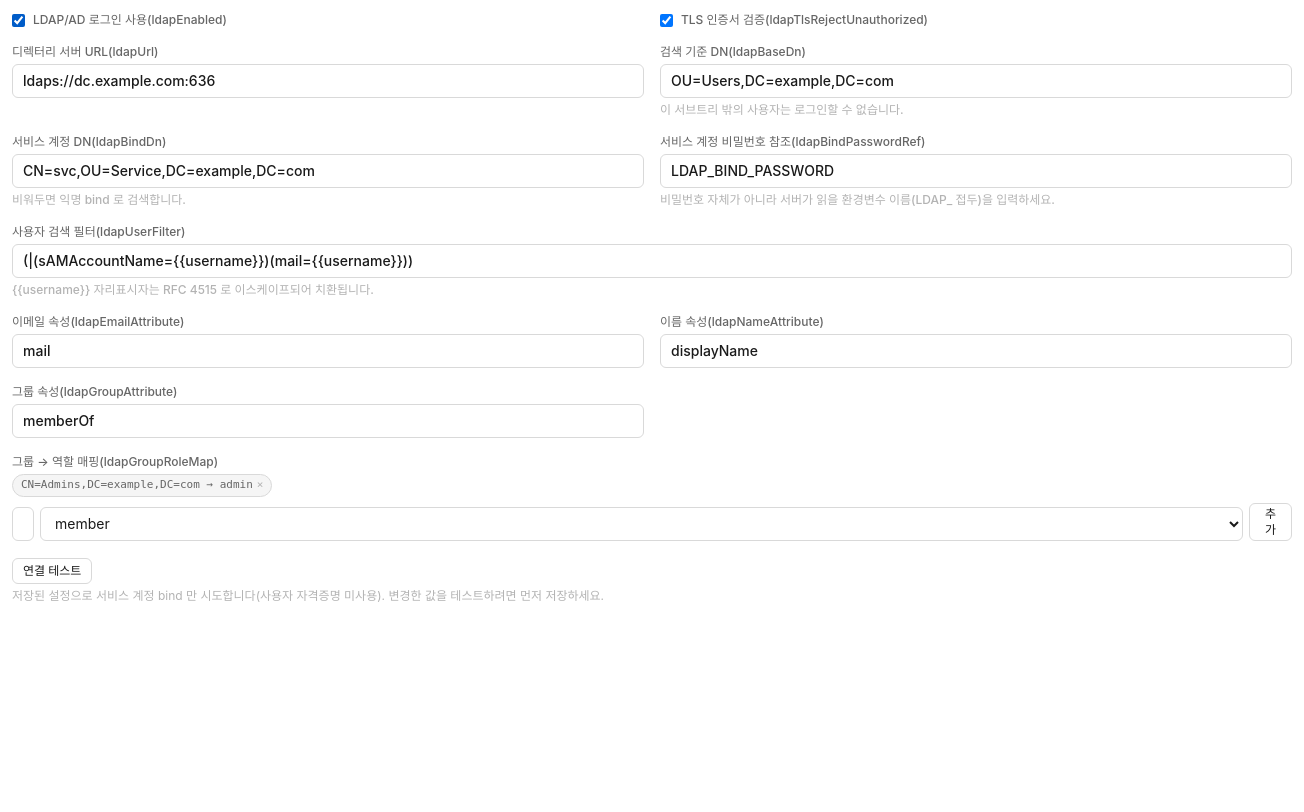
Test case: IdentityLdapTab › 연결 테스트 실패 시 서버 사유(502 DIRECTORY_UNAVAILABLE)를 표면화한다
Click the button with test id "admin-settings-ldap-test" at (52, 570), box [12,558,92,584]
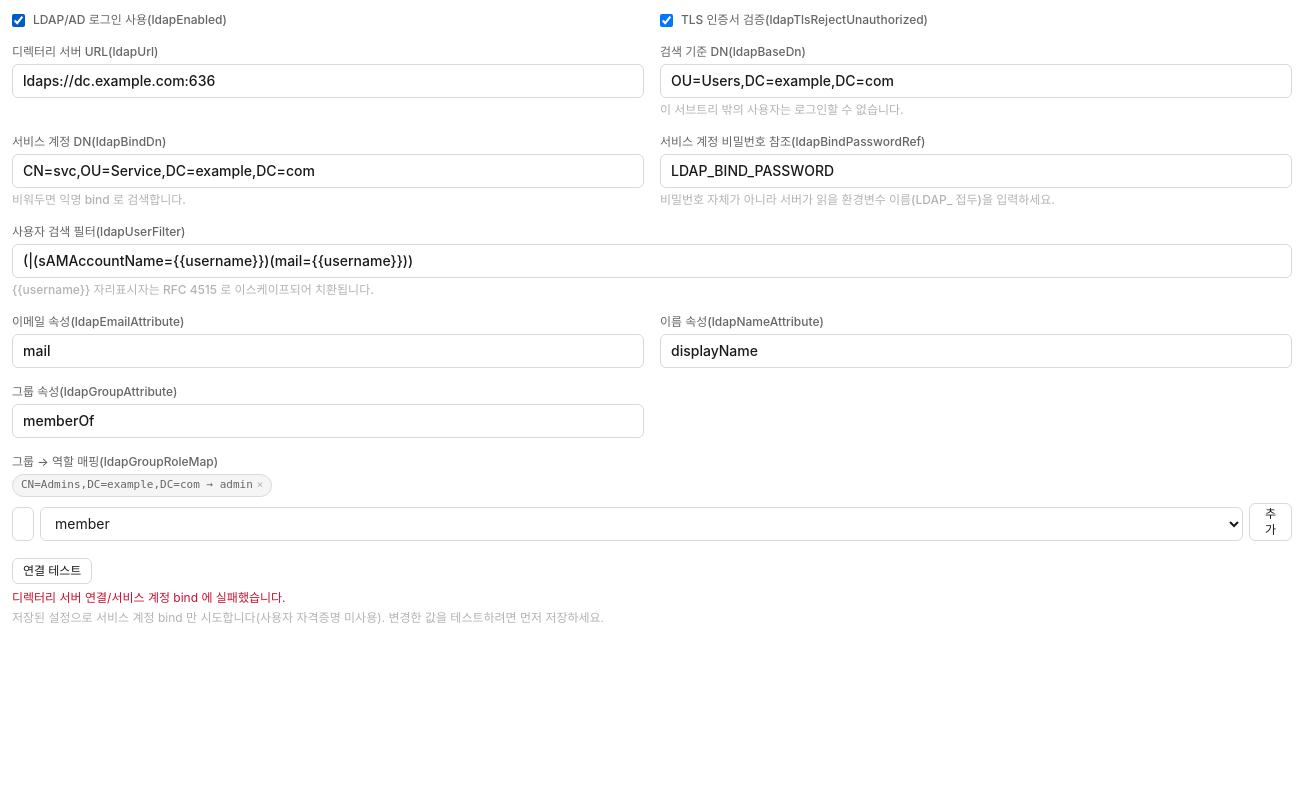
Check: the message with test id "admin-settings-ldap-test-result" reads "디렉터리 서버 연결/서비스 계정 bind 에 실패했습니다.", box [12,590,286,604]
